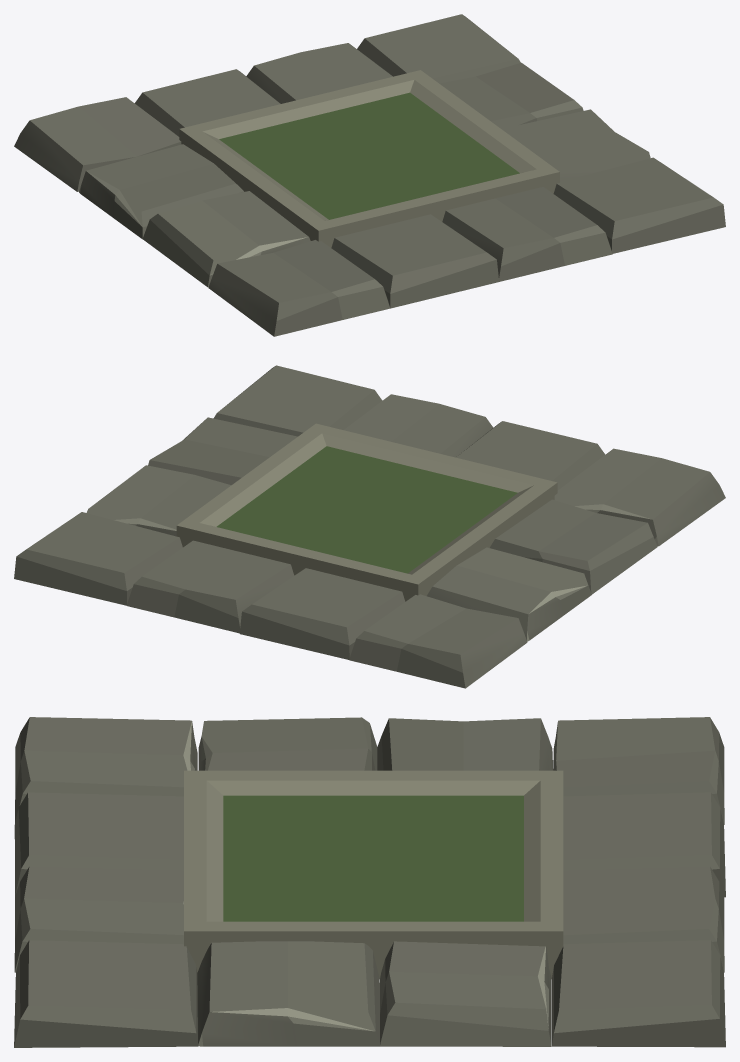
Rendered from Floor_Tree.gltf.
3 renders of one model, top to bottom at view 1: azimuth 30°, elevation 25°; view 2: azimuth 150°, elevation 25°; view 3: azimuth 270°, elevation 25°, orthographic. The views are drawn at different scales.
Parts seen in each view (by area): view 1: Floor_Tree; view 2: Floor_Tree; view 3: Floor_Tree.
Boxes of the visible parts, x1=… form: Floor_Tree: x1=14, y1=14, x2=725, y2=336; Floor_Tree: x1=14, y1=365, x2=725, y2=688; Floor_Tree: x1=14, y1=717, x2=725, y2=1047.
Size of the model in its own units: 1.99 by 0.1484 by 2.
